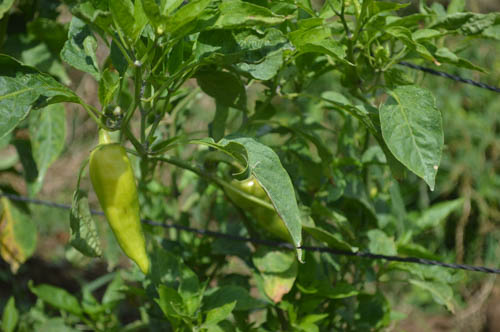ChiliPepper: (89, 146, 151, 275), (228, 175, 294, 240)
